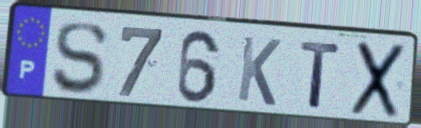6: (174, 28, 224, 106)
7: (115, 24, 167, 99)
K: (234, 33, 284, 109)
S: (50, 20, 110, 97)
T: (298, 39, 344, 111)
X: (348, 39, 409, 121)
